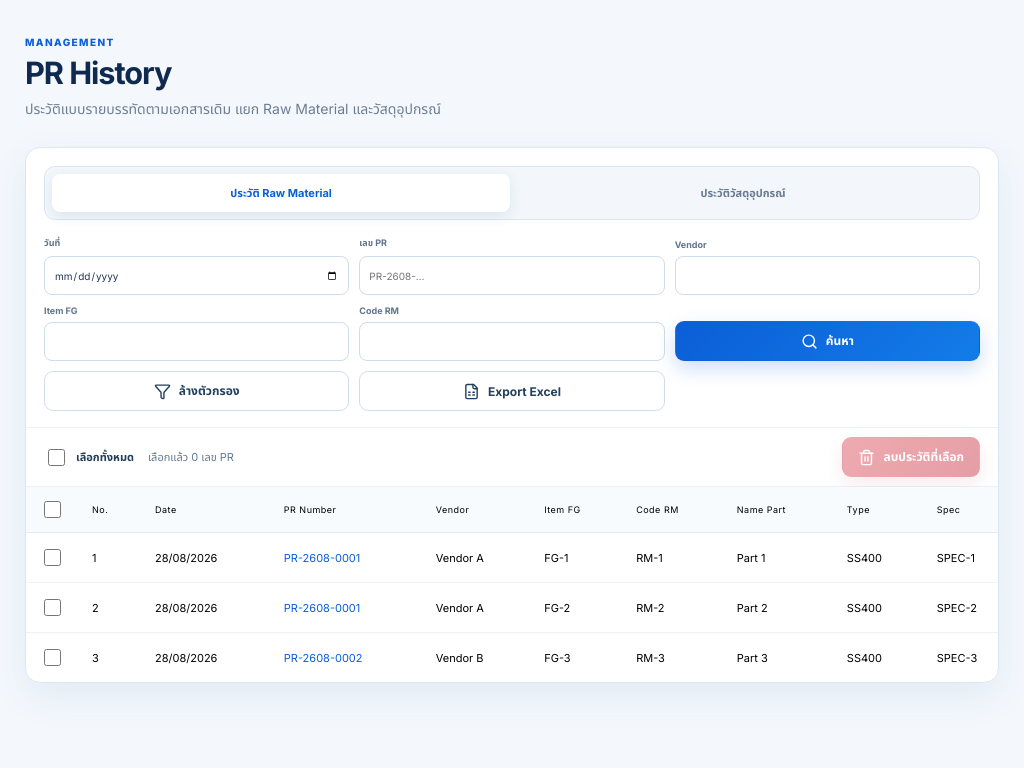
Test case: PR history deletion › selects all visible PR numbers instead of counting duplicate lines
Check: the text "PR-2608-0002" is shown, box x1=284 y1=651 x2=362 y2=665
Click the checkbox named "เลือกทั้งหมดในตาราง" at (52, 510), box x1=44 y1=501 x2=61 y2=518
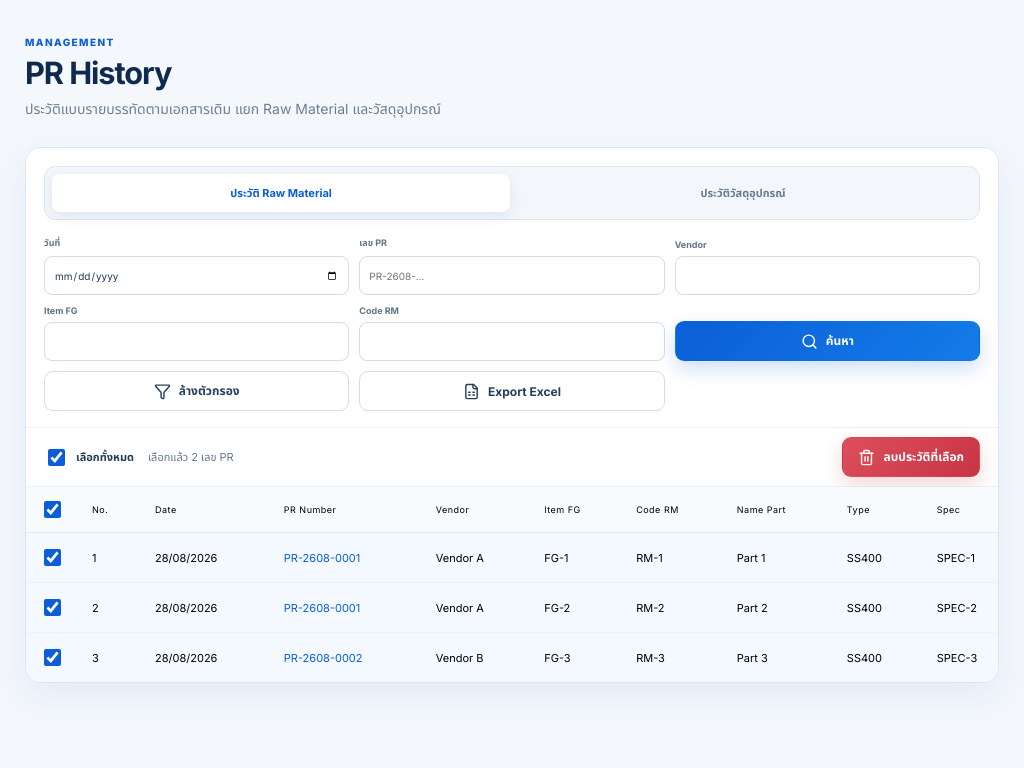
Check: the text "เลือกแล้ว 2 เลข PR" is shown, box x1=148 y1=449 x2=234 y2=466
